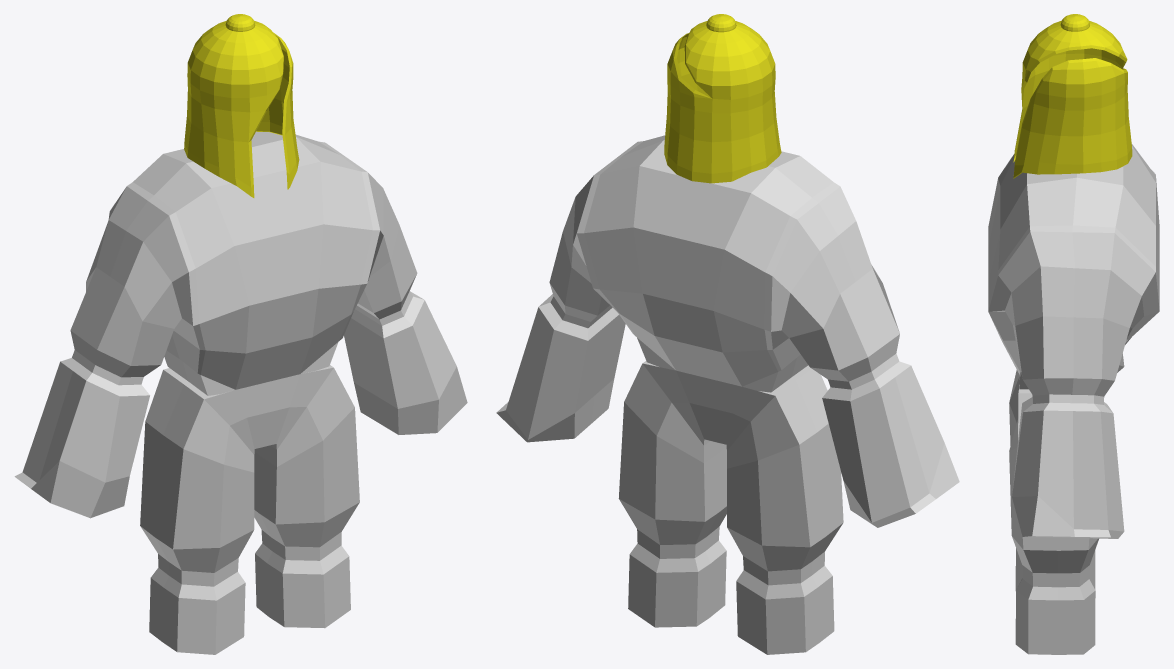
Rendered from carrara_bishop.fbx.
3 views of the same model, side by side, from view 1: azimuth 30°, elevation 25°; view 2: azimuth 150°, elevation 25°; view 3: azimuth 270°, elevation 25° (orthographic). The views are drawn at different scales.
Visible parts, largest first — view 1: bishop body; view 2: bishop body; view 3: bishop body.
Boxes of the visible parts, x1,y1,x2,y2 form: bishop body: [14, 14, 467, 654]; bishop body: [496, 14, 959, 654]; bishop body: [988, 14, 1159, 654].
Bounding box in the file's own units: 196 × 271 × 69.82.
